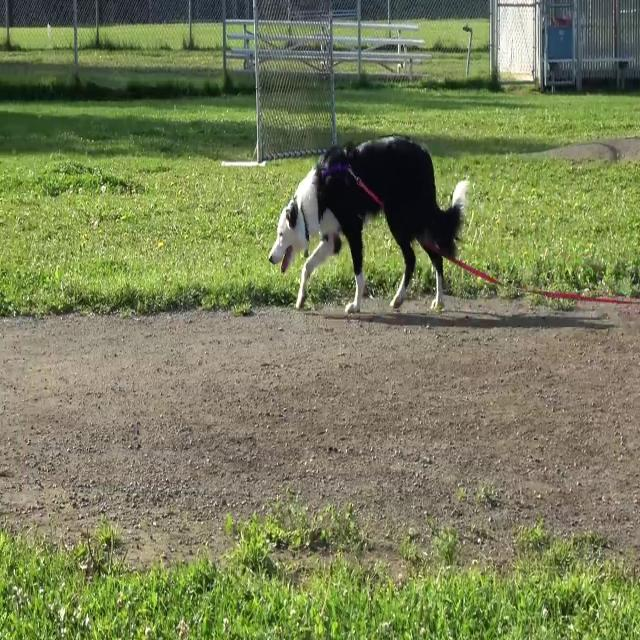Dog: (264, 134, 468, 314)
